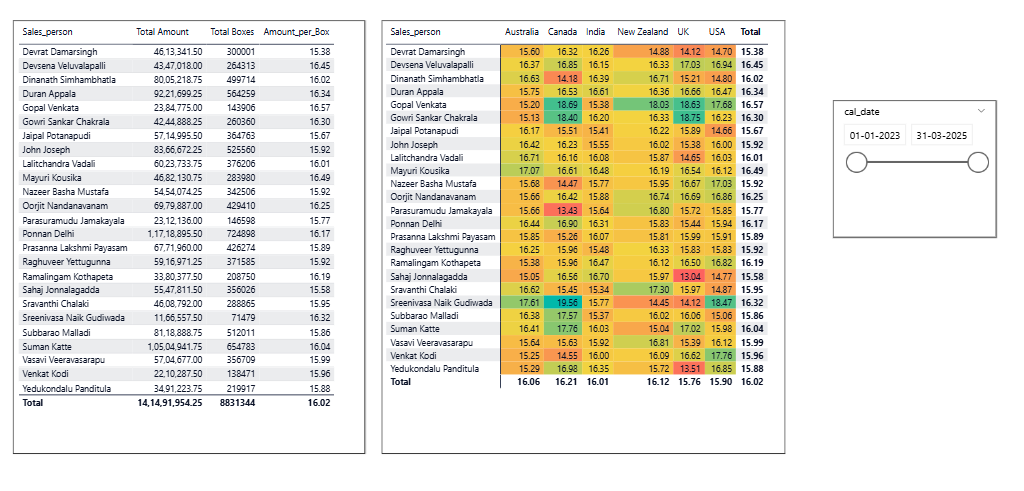

The dashboard page shown, as its layout file describes it:
{"tool":"powerbi","page":{"name":"Amount per box","canvas":[1280,720],"ordinal":3},"visuals":[{"type":"tableEx","fields":{"Values":["people.Sales_person","shipments.Total Amount","shipments.Total Boxes","shipments.Amount_per_Box"]},"box":[10,0,577.1,688.6],"z":0},{"type":"pivotTable","fields":{"Rows":["people.Sales_person"],"Columns":["locations.Geo"],"Values":["shipments.Amount_per_Box"]},"box":[487.1,0,577.1,688.6],"z":1000},{"type":"slicer","fields":{"Values":["calendar.cal_date"]},"box":[1074,0,206,689],"z":2000}]}

Visuals, with their boxes on the page's 1280x720 design canvas (x1, y1, x2, y2). These are canvas units, not pixel positions in the 1024x491 screenshot, which may show the page scaled, cropped or inside an application window:
tableEx - people.Sales_person x shipments.Total Amount: crop(10, 0, 587, 689)
pivotTable - people.Sales_person x locations.Geo: crop(487, 0, 1064, 689)
slicer - calendar.cal_date: crop(1074, 0, 1280, 689)
